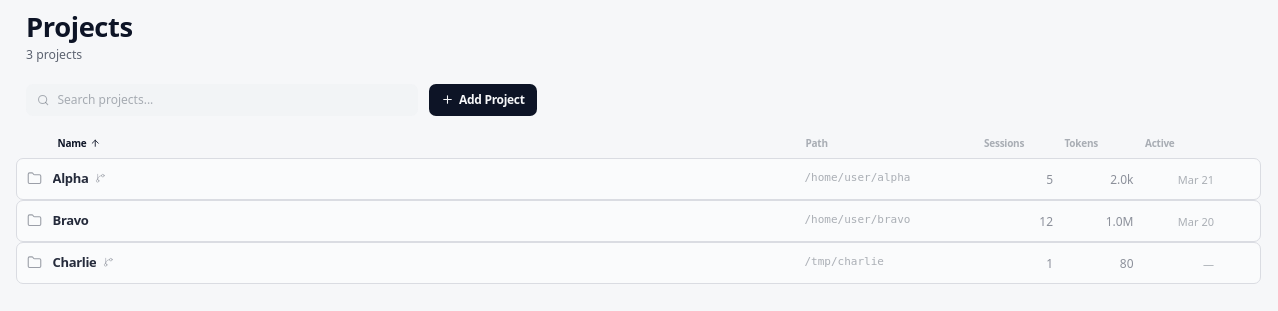
Test: ProjectGrid › shows empty state when search has no matches
Type "nonexistent" into the field with placeholder "Search projects..." at x=222, y=100, box x1=26 y1=84 x2=418 y2=116
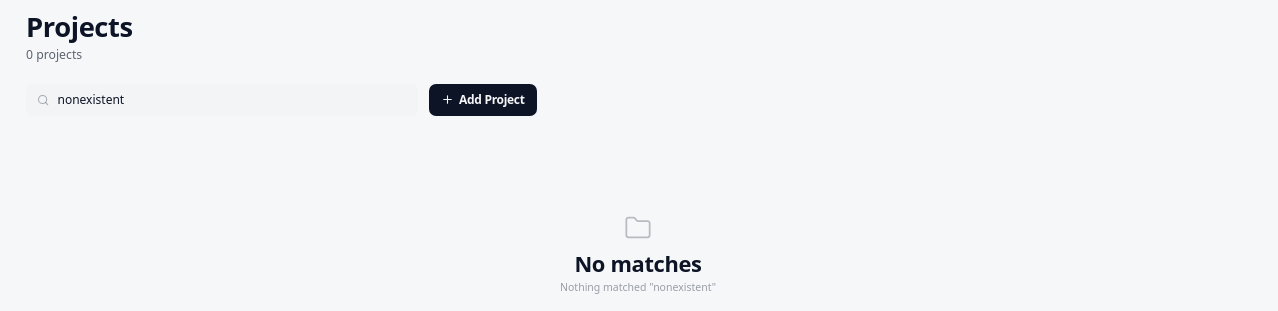
Expected: the heading "No matches" is shown, x1=574 y1=252 x2=702 y2=276
Expected: the text "Nothing matched \"nonexistent\"" is shown, x1=560 y1=280 x2=716 y2=294
